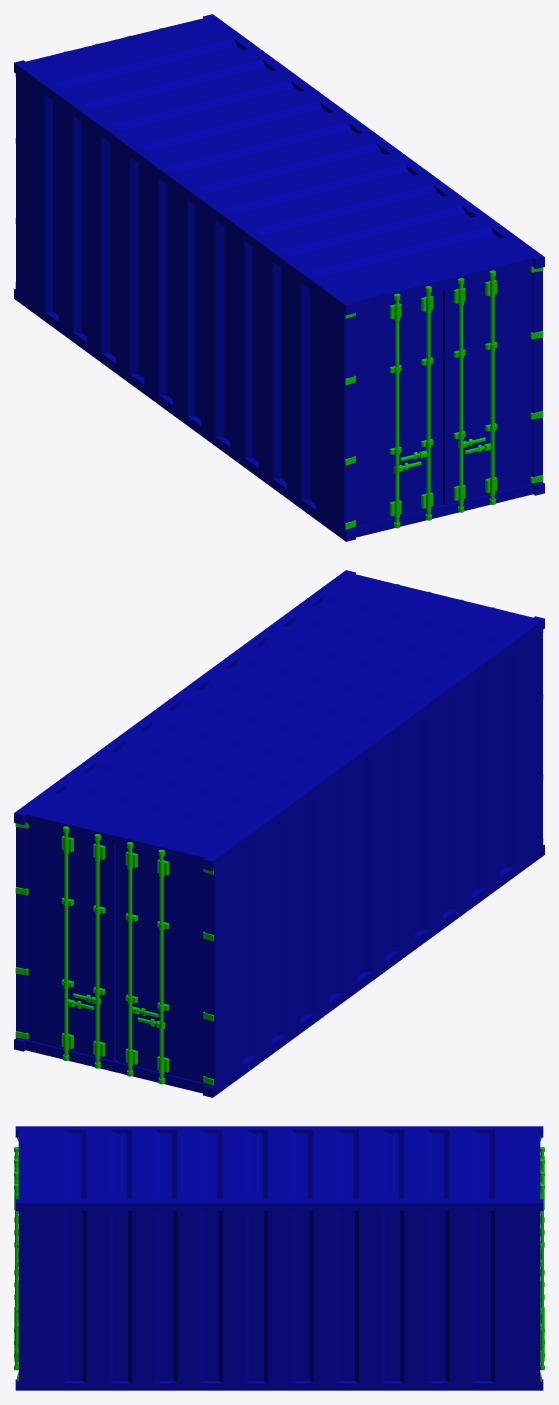
File: cargo_low.fbx
3 views of the same model, one above another, from view 1: azimuth 30°, elevation 25°; view 2: azimuth 150°, elevation 25°; view 3: azimuth 270°, elevation 25° (orthographic). The views are drawn at different scales.
Visible parts, largest first — view 1: cargo_low; view 2: cargo_low; view 3: cargo_low.
Part boxes in pixels (x1,y1,x2,y2): cargo_low: (14, 14, 544, 541); cargo_low: (14, 570, 544, 1097); cargo_low: (14, 1126, 544, 1390).
Size of the model in its own units: 243 by 276 by 708.
